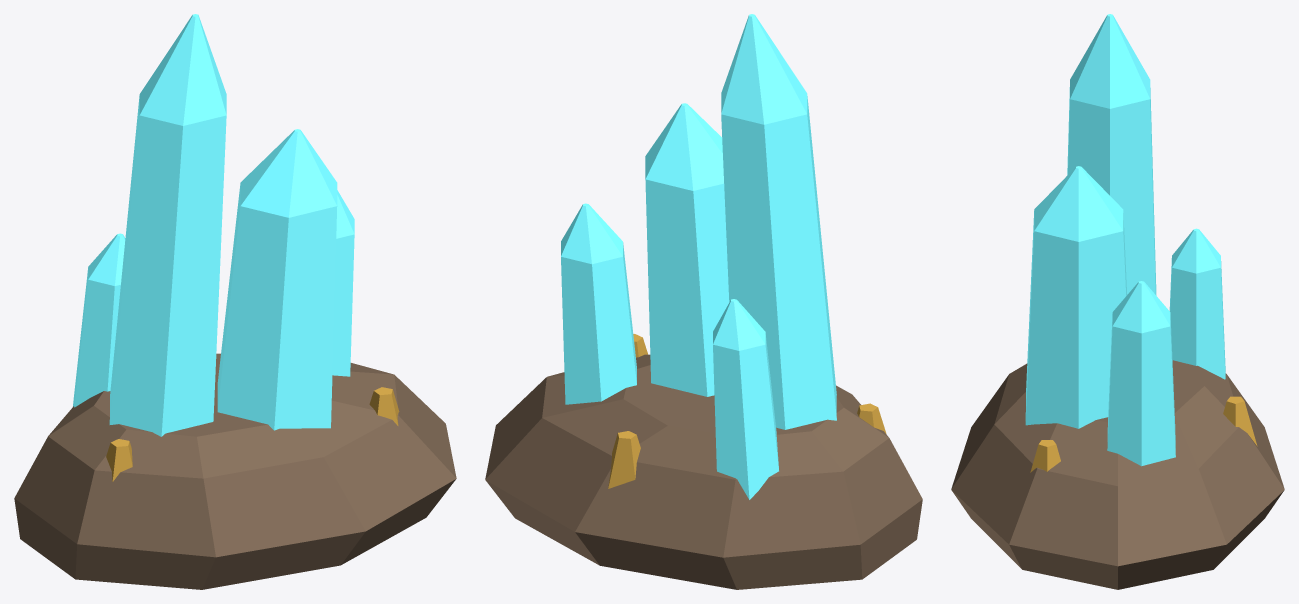
Rendered from crystal-asteroid.glb.
3 renders of one model, left to right at view 1: azimuth 30°, elevation 25°; view 2: azimuth 150°, elevation 25°; view 3: azimuth 270°, elevation 25°, orthographic. The views are drawn at different scales.
Visible parts, largest first — view 1: Structure; view 2: Structure; view 3: Structure.
Part boxes in pixels (bbox=[...]): Structure: bbox=[14, 14, 456, 589]; Structure: bbox=[485, 14, 922, 589]; Structure: bbox=[951, 14, 1284, 589].
Size of the model in its own units: 2.72 by 3.32 by 2.13.
